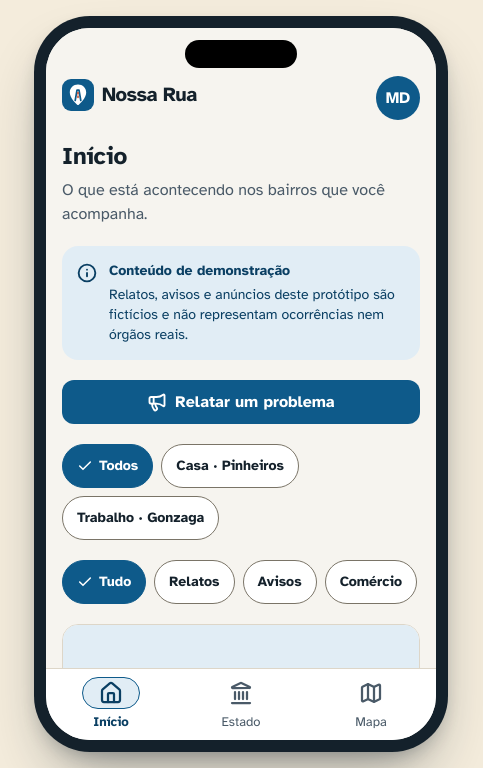
Test: Início como morador › com 2 ou mais bairros, aparecem chips por bairro e filtram o feed
Step 1. Click the button "Trabalho · Gonzaga" → (141, 518), box [62,496,219,540]
(page scrolled)
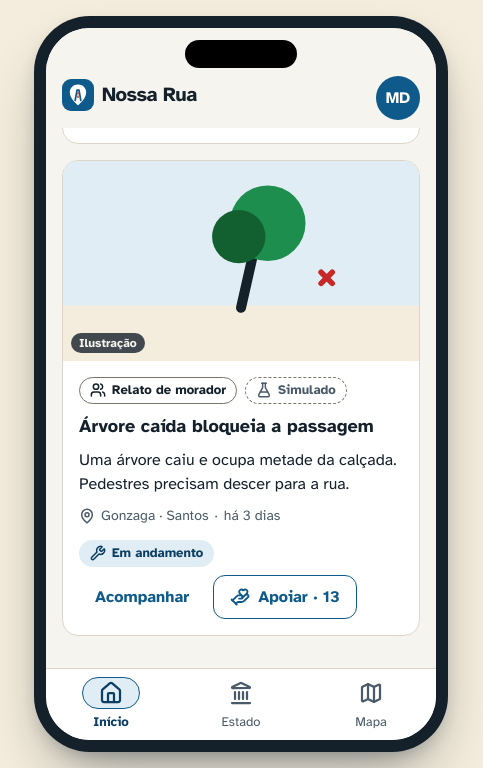
Now the text "Gonzaga · Santos" is shown, box [101,506,208,526]
